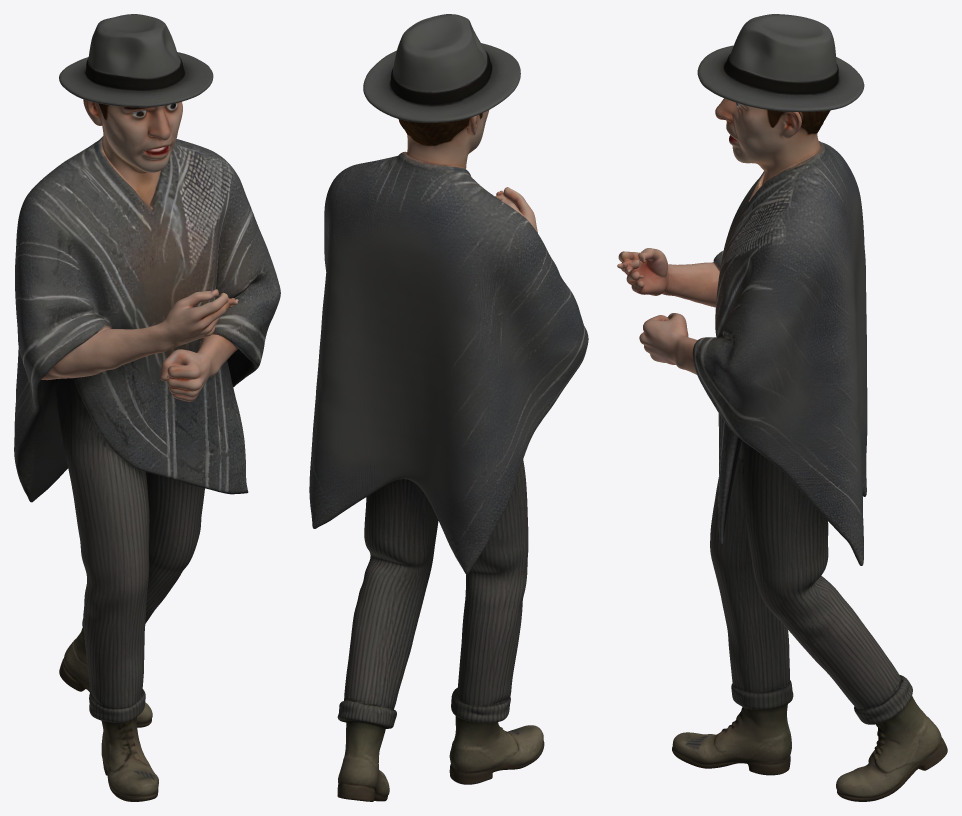
Rendered from 73-pozo-hondo-optimized.glb.
3 views of the same model, side by side, from view 1: azimuth 30°, elevation 25°; view 2: azimuth 150°, elevation 25°; view 3: azimuth 270°, elevation 25° (orthographic). The views are drawn at different scales.
Visible parts, largest first — view 1: tripo_node_9ce6398d-b1e5-4068-905a-844ecb52e2e4; view 2: tripo_node_9ce6398d-b1e5-4068-905a-844ecb52e2e4; view 3: tripo_node_9ce6398d-b1e5-4068-905a-844ecb52e2e4.
Part boxes in pixels (x1,y1,x2,y2): tripo_node_9ce6398d-b1e5-4068-905a-844ecb52e2e4: (14,14,280,801); tripo_node_9ce6398d-b1e5-4068-905a-844ecb52e2e4: (309,14,588,801); tripo_node_9ce6398d-b1e5-4068-905a-844ecb52e2e4: (617,14,947,801).
Bounding box in the file's own units: 0.3513 × 1 × 0.3953.
Materials: 1 (1 with a texture image).
